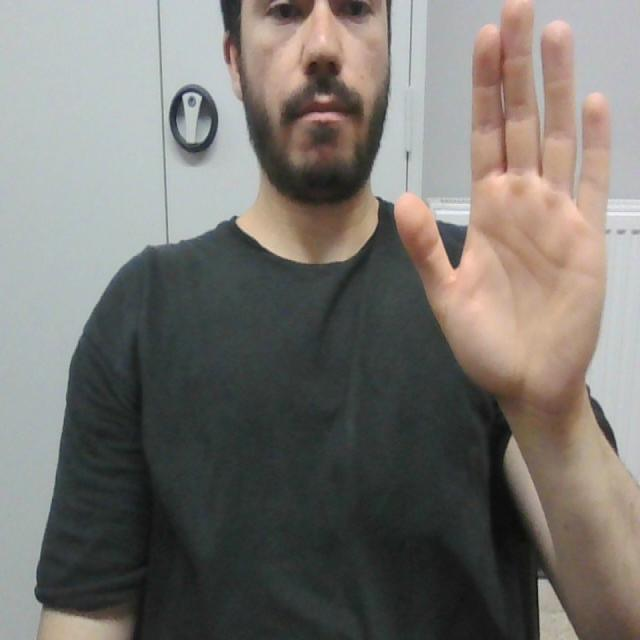Dur: (379, 0, 628, 403)
